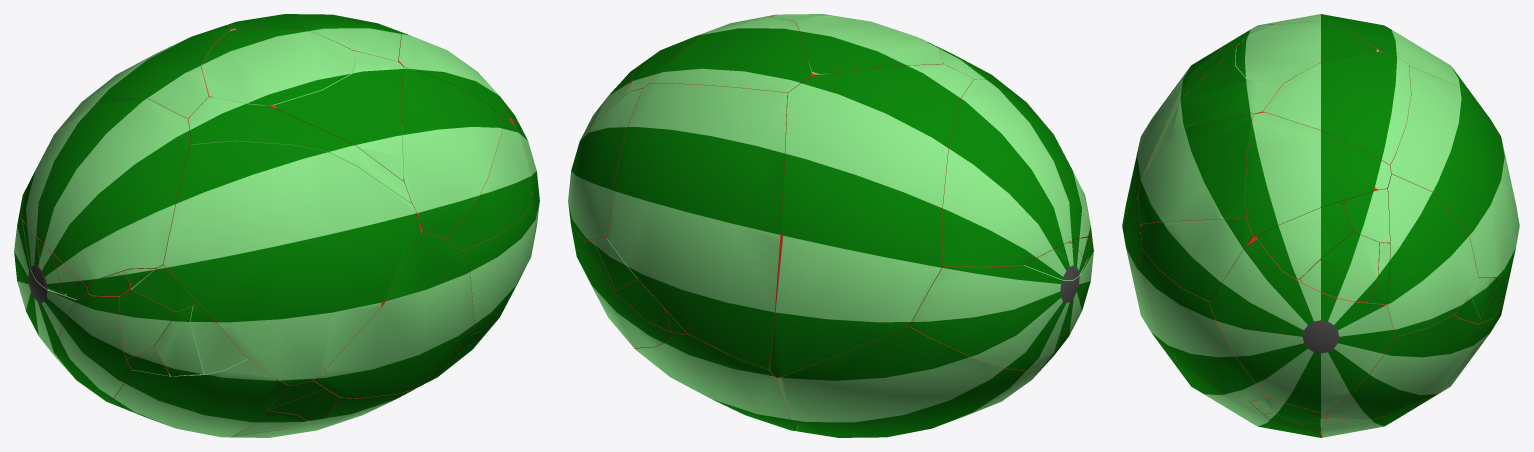
File: Watermelon_Fractured.fbx
3 views of the same model, side by side, from view 1: azimuth 30°, elevation 25°; view 2: azimuth 150°, elevation 25°; view 3: azimuth 270°, elevation 25° (orthographic). The views are drawn at different scales.
Parts seen in each view (by area): view 1: Melon_cell.012, Melon_cell.005, Melon_cell.010, Melon_cell.021, Melon_cell.023, Melon_cell.028, Melon_cell.027, Melon_cell.030, Melon_cell.024, Melon_cell.013, Melon_cell.001, Melon_cell.020 (+19 smaller); view 2: Melon_cell.024, Melon_cell.035, Melon_cell.005, Melon_cell.029, Melon_cell.036, Melon_cell.018, Melon_cell.026, Melon_cell.023, Melon_cell.019, Melon_cell, Melon_cell.002, Melon_cell.015_cell.004 (+5 smaller); view 3: Melon_cell.014, Melon_cell.035, Melon_cell.002, Melon_cell.019, Melon_cell.018, Melon_cell.021, Melon_cell, Melon_cell.020, Melon_cell.001, Melon_cell.023, Melon_cell.027, Melon_cell.016_cell.004 (+13 smaller).
Boxes of the visible parts, <box> form: Melon_cell.012: <box>163,141,422,385</box>; Melon_cell.005: <box>21,98,190,287</box>; Melon_cell.010: <box>312,231,474,398</box>; Melon_cell.021: <box>402,66,501,239</box>; Melon_cell.023: <box>201,28,354,105</box>; Melon_cell.028: <box>110,356,289,437</box>; Melon_cell.027: <box>230,28,404,182</box>; Melon_cell.030: <box>188,96,412,204</box>; Melon_cell.024: <box>58,25,230,129</box>; Melon_cell.013: <box>56,293,131,399</box>; Melon_cell.001: <box>443,113,532,250</box>; Melon_cell.020: <box>459,205,536,334</box>; Melon_cell.024: <box>769,64,973,378</box>; Melon_cell.035: <box>607,83,787,369</box>; Melon_cell.005: <box>942,79,1090,266</box>; Melon_cell.029: <box>777,326,1037,437</box>; Melon_cell.036: <box>909,258,1088,370</box>; Melon_cell.018: <box>651,17,811,92</box>; Melon_cell.026: <box>634,333,797,430</box>; Melon_cell.023: <box>795,16,942,74</box>; Melon_cell.019: <box>568,88,642,240</box>; Melon_cell: <box>569,209,673,348</box>; Melon_cell.002: <box>630,15,773,91</box>; Melon_cell.015_cell.004: <box>616,279,671,331</box>; Melon_cell.014: <box>1209,236,1395,413</box>; Melon_cell.035: <box>1389,66,1519,291</box>; Melon_cell.002: <box>1245,111,1391,236</box>; Melon_cell.019: <box>1386,174,1478,336</box>; Melon_cell.018: <box>1263,52,1410,164</box>; Melon_cell.021: <box>1138,113,1253,223</box>; Melon_cell: <box>1326,306,1500,419</box>; Melon_cell.020: <box>1140,248,1269,401</box>; Melon_cell.001: <box>1140,218,1253,301</box>; Melon_cell.023: <box>1235,20,1376,83</box>; Melon_cell.027: <box>1158,45,1383,152</box>; Melon_cell.016_cell.004: <box>1256,202,1352,279</box>.
Size of the model in its own units: 266 by 200 by 200.
